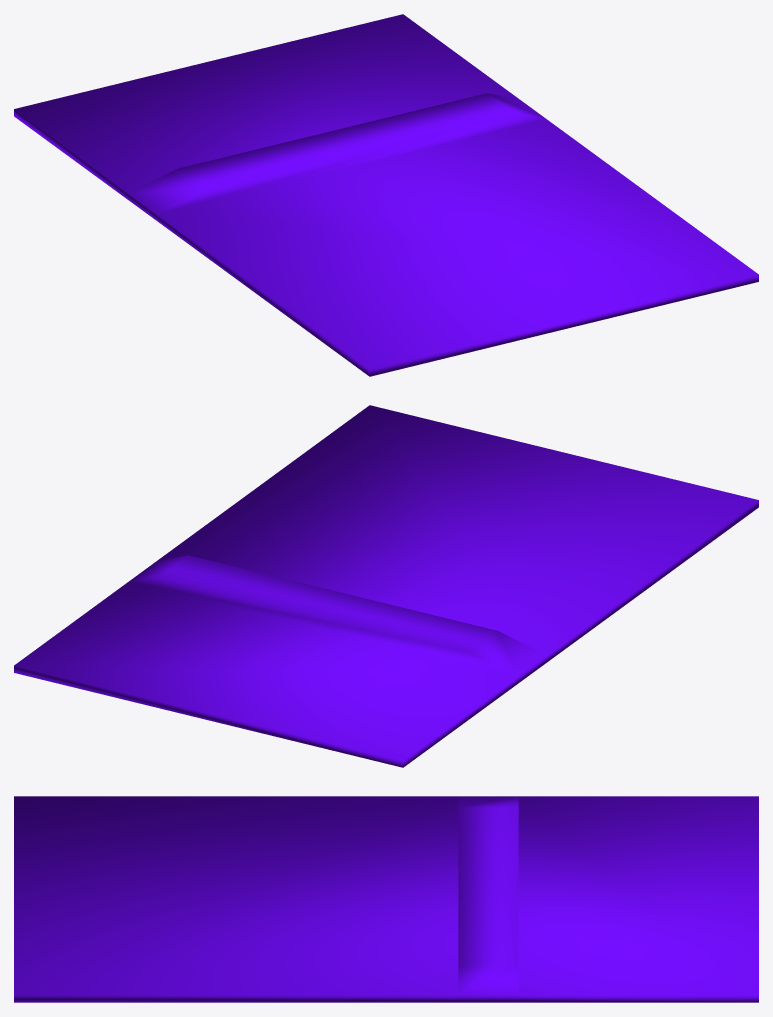
File: hospital_staff_fileFolder_1_open_meshCollider.fbx
3 renders of one model, top to bottom at view 1: azimuth 30°, elevation 25°; view 2: azimuth 150°, elevation 25°; view 3: azimuth 270°, elevation 25°, orthographic. The views are drawn at different scales.
Visible parts, largest first — view 1: hospital_staff_fileFolder_1_open_meshCollider; view 2: hospital_staff_fileFolder_1_open_meshCollider; view 3: hospital_staff_fileFolder_1_open_meshCollider.
Boxes of the visible parts, bbox=[...] form: hospital_staff_fileFolder_1_open_meshCollider: bbox=[14, 14, 758, 376]; hospital_staff_fileFolder_1_open_meshCollider: bbox=[14, 405, 758, 767]; hospital_staff_fileFolder_1_open_meshCollider: bbox=[14, 796, 758, 1002].
Size of the model in its own units: 23.56 by 1.15 by 37.3.
